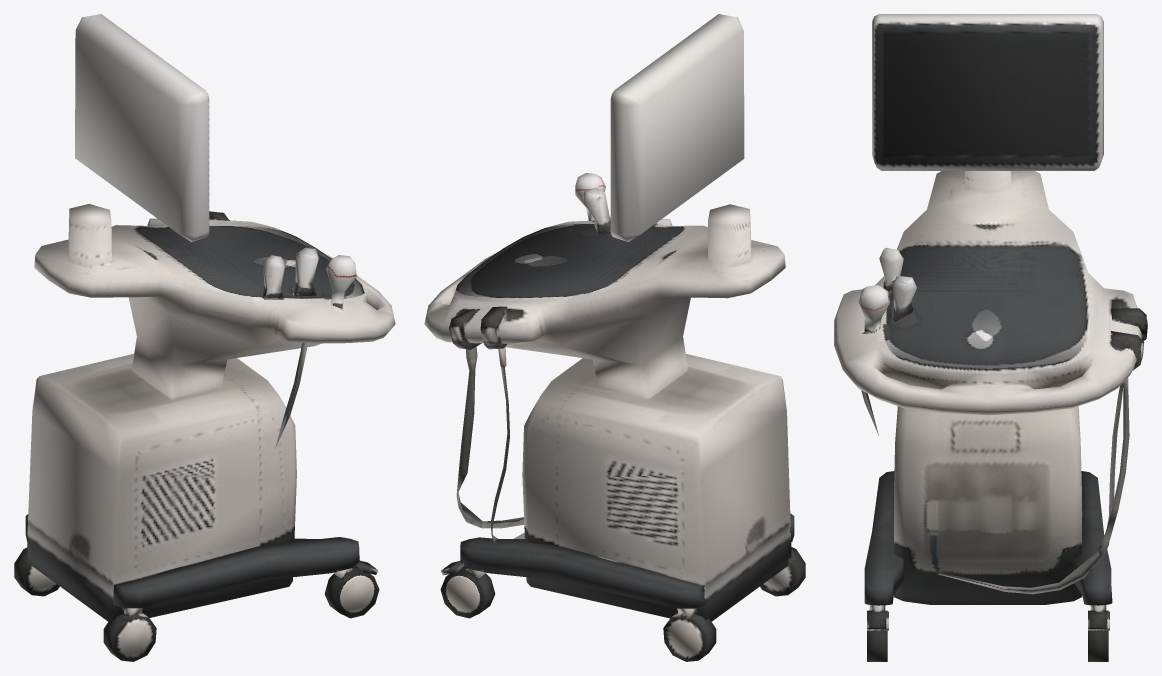
3 views of the same model, side by side, from view 1: azimuth 30°, elevation 25°; view 2: azimuth 150°, elevation 25°; view 3: azimuth 270°, elevation 25° (orthographic).
Parts seen in each view (by area): view 1: tripo_node_b9504282; view 2: tripo_node_b9504282; view 3: tripo_node_b9504282.
Part boxes in pixels (x1,y1,x2,y2): tripo_node_b9504282: (14, 14, 395, 661); tripo_node_b9504282: (424, 14, 805, 661); tripo_node_b9504282: (834, 14, 1147, 661).
Bounding box in the file's own units: 58.4 × 99.8 × 50.2.
1 material, 1 textured.
